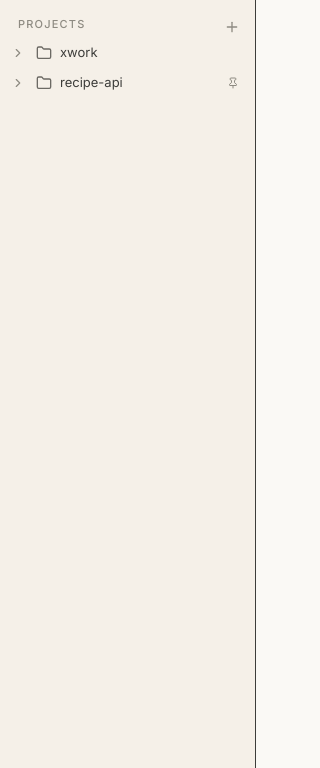
Test: SidebarProjectList session composition › hands each slot its own project
Expected: the link "xwork" is shown, [36,44,98,60]
Click the button named "Sessions for xwork": (18, 52) [8,42,28,62]
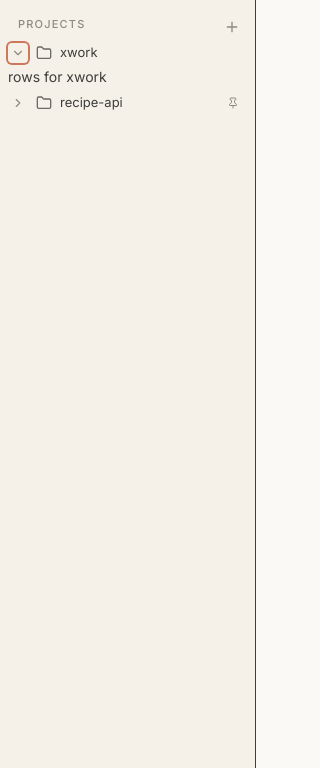
Click the button named "Sessions for recipe-api": (18, 102) [8,92,28,112]
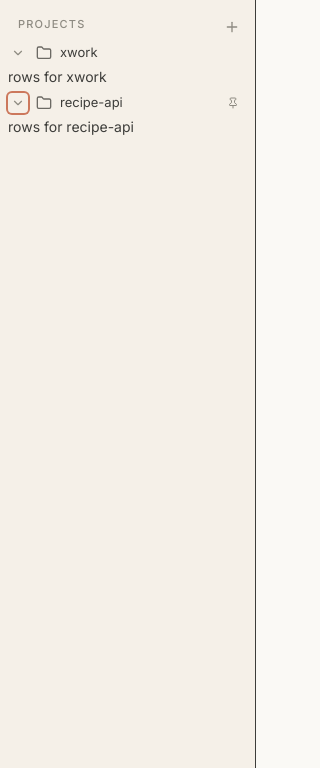
Now the text with test id "slot-3f2a" reads "rows for xwork", box [8,68,107,84]
Now the text with test id "slot-9b1c" reads "rows for recipe-api", box [8,118,134,134]
